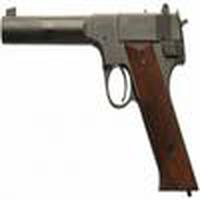gun: (1, 15, 199, 190)
